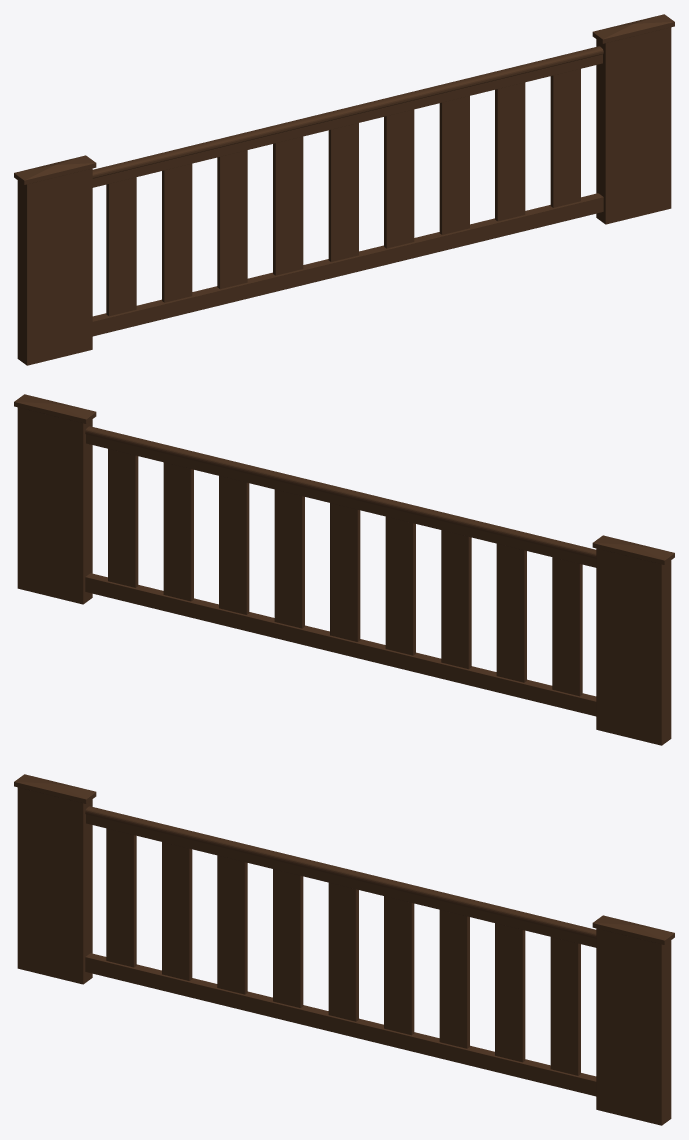
Rendered from bar-rail.glb.
The picture shows the model from 3 angles, top to bottom: view 1: azimuth 30°, elevation 25°; view 2: azimuth 150°, elevation 25°; view 3: azimuth 330°, elevation 25°; orthographic projection.
Parts seen in each view (by area): view 1: bar-rail; view 2: bar-rail; view 3: bar-rail.
Part boxes in pixels (x1,y1,x2,y2): bar-rail: [14, 14, 674, 365]; bar-rail: [14, 394, 674, 745]; bar-rail: [14, 774, 674, 1125].
Bounding box in the file's own units: 3.6 × 1 × 0.1.
